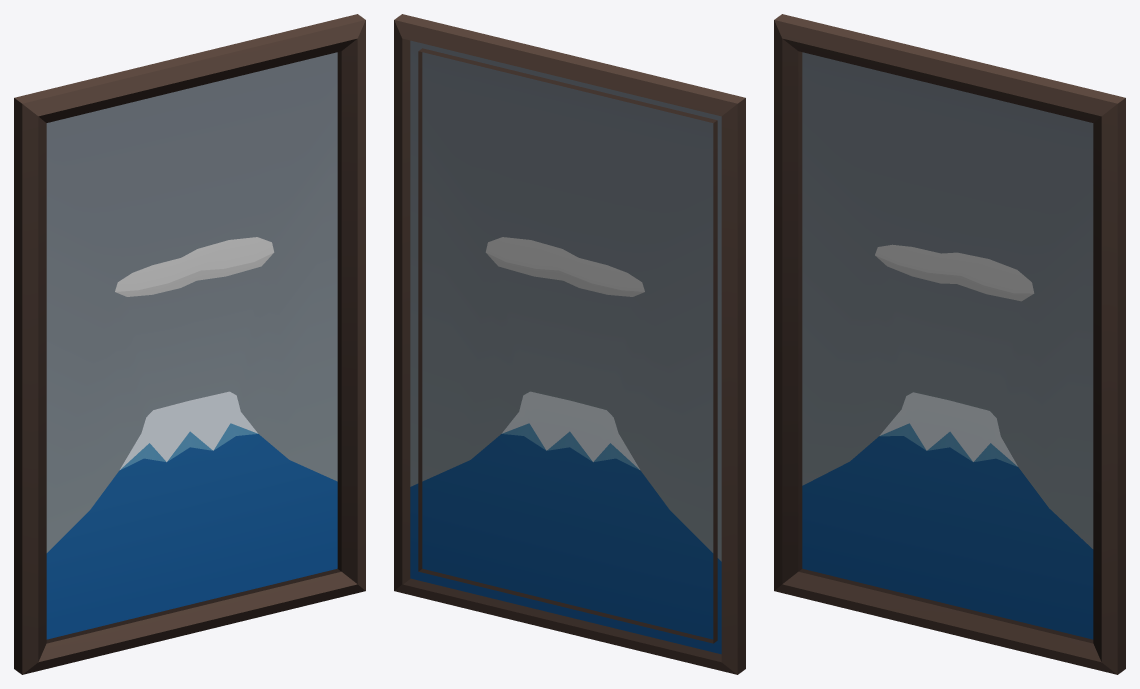
The model's file is SK_Picture_004.FBX.
3 renders of one model, left to right at view 1: azimuth 30°, elevation 25°; view 2: azimuth 150°, elevation 25°; view 3: azimuth 330°, elevation 25°, orthographic.
Visible parts, largest first — view 1: SK_Picture_004; view 2: SK_Picture_004; view 3: SK_Picture_004.
Boxes of the visible parts, x1,y1,x2,y2 form: SK_Picture_004: [14, 14, 365, 674]; SK_Picture_004: [394, 14, 745, 674]; SK_Picture_004: [774, 14, 1125, 674].
Size of the model in its own units: 45.11 by 71.67 by 3.68.
